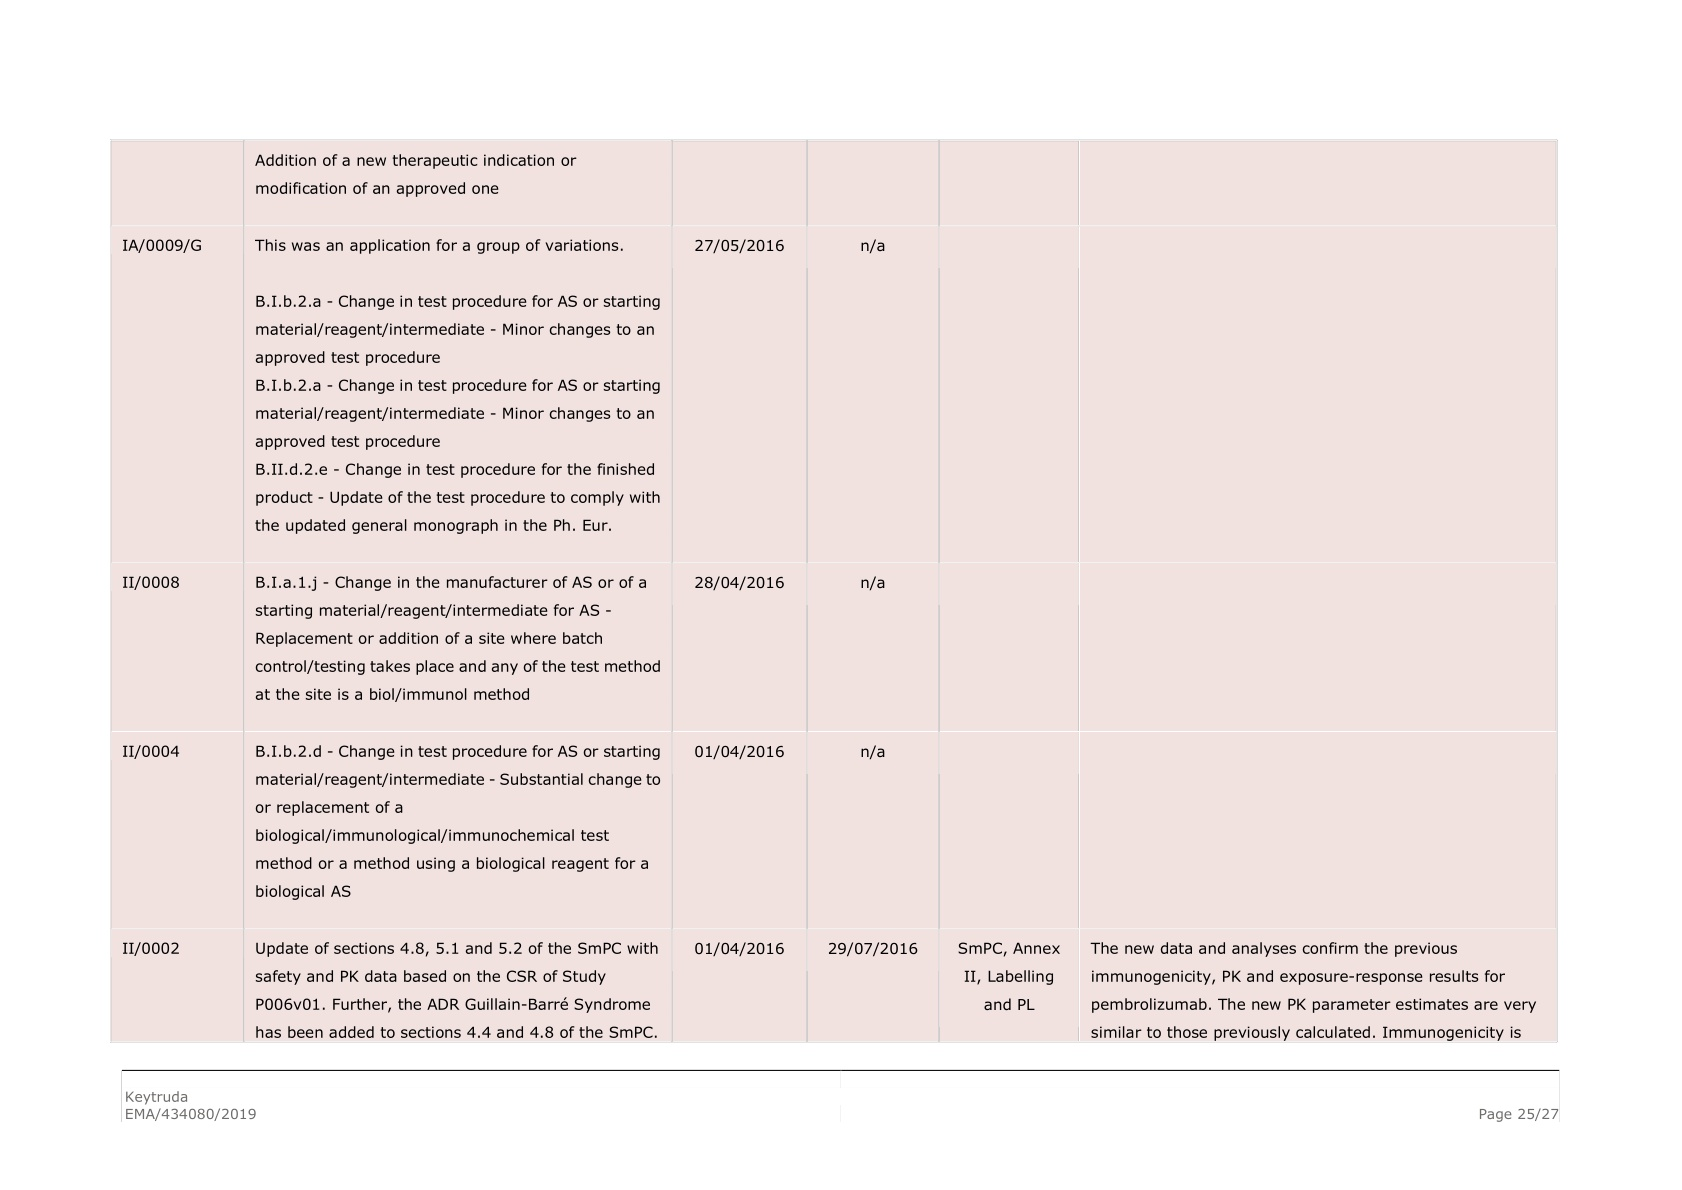full_lined: (109, 138, 1558, 1044)
